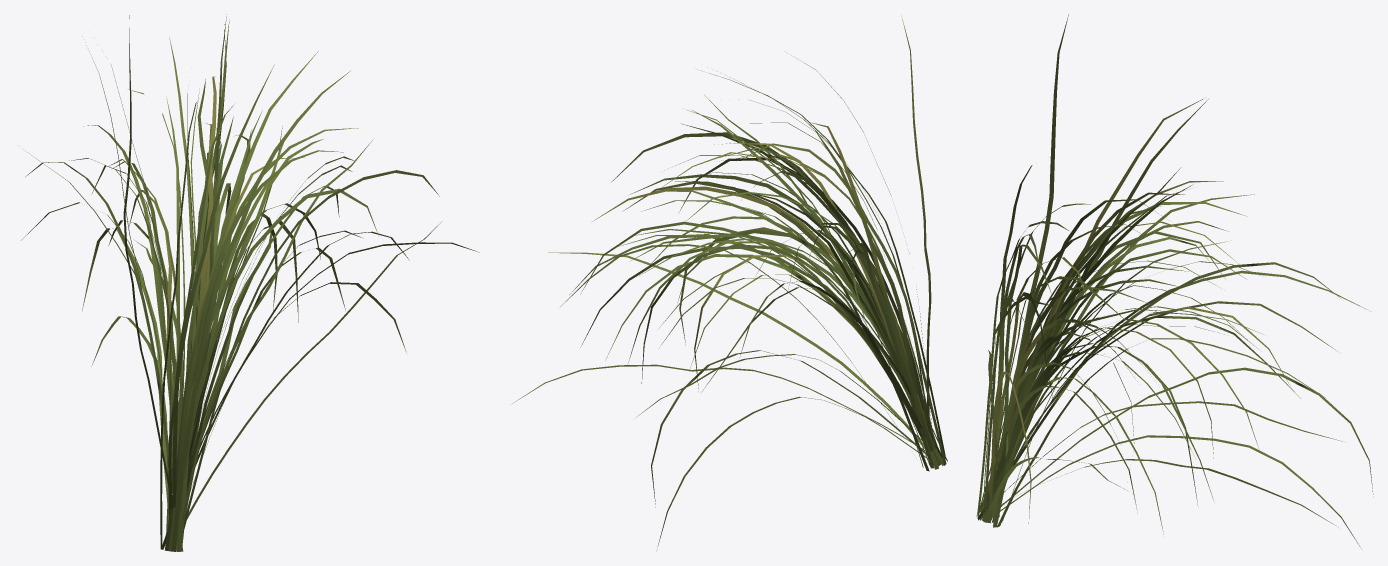
The model's file is capim_3.glb.
3 renders of one model, left to right at view 1: azimuth 30°, elevation 25°; view 2: azimuth 150°, elevation 25°; view 3: azimuth 270°, elevation 25°, orthographic. The views are drawn at different scales.
Visible parts, largest first — view 1: capim_3; view 2: capim_3; view 3: capim_3.
Part boxes in pixels (x1,y1,x2,y2): capim_3: (21, 14, 479, 551); capim_3: (512, 16, 947, 550); capim_3: (976, 14, 1373, 548).
Bounding box in the file's own units: 0.929 × 1.18 × 0.8361.
